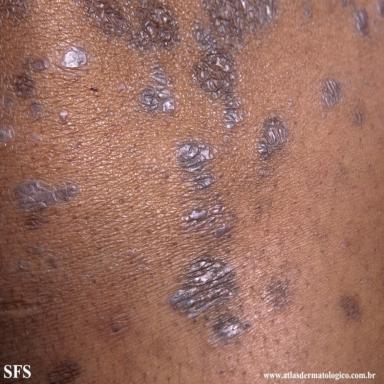lichen: (190, 0, 276, 128), (169, 256, 248, 344), (79, 0, 179, 52), (11, 56, 50, 119), (134, 58, 176, 114), (175, 137, 215, 189), (181, 199, 235, 237), (13, 180, 81, 210), (257, 113, 289, 158), (261, 277, 289, 311), (56, 43, 89, 70), (48, 361, 80, 384), (320, 77, 341, 109), (0, 0, 29, 21), (339, 295, 361, 320), (354, 9, 367, 35), (353, 108, 365, 125), (303, 3, 312, 19), (59, 110, 70, 123)
